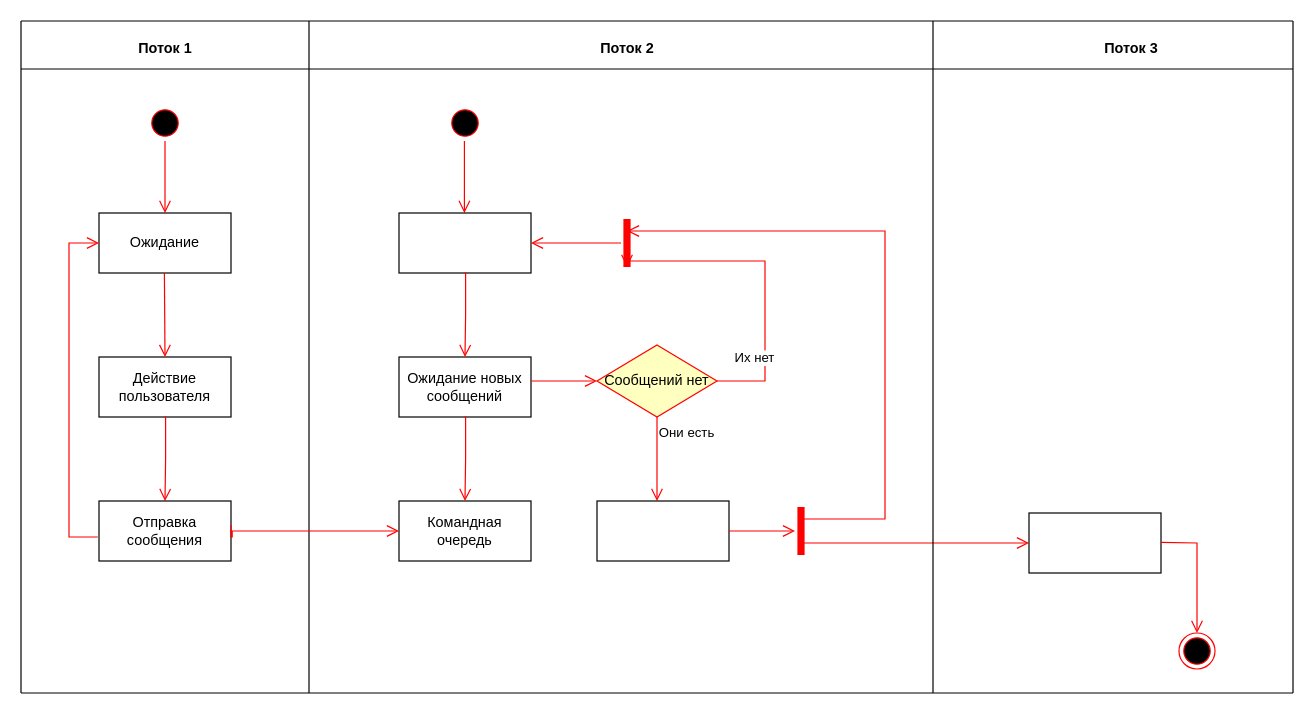
Some shapes in this 1315 by 715 pixel diagram are drawn without their labels. The centre of each missing label's shape, as x and y in pixels:
Бездействие: the point at 464,242
Просмотр сообщения: the point at 1094,542
Уведомление: the point at 662,530
